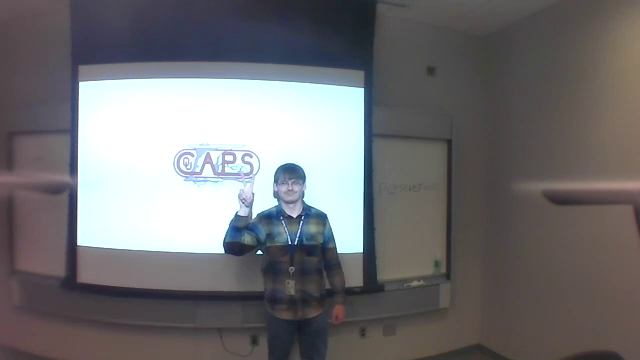peace: (231, 170, 258, 212)
